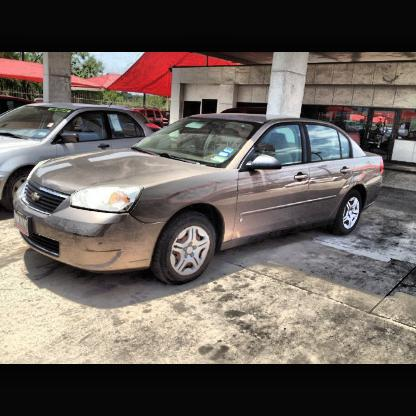Chevrolet Malibu Sedan 2007: (17, 117, 384, 276)
